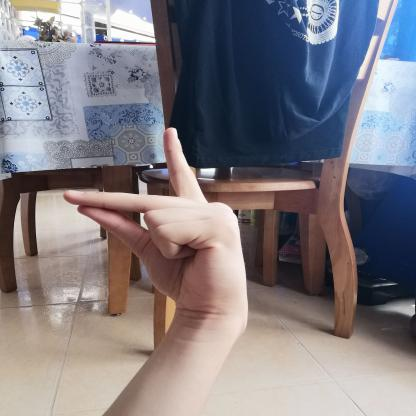TAA: (50, 117, 258, 318)
